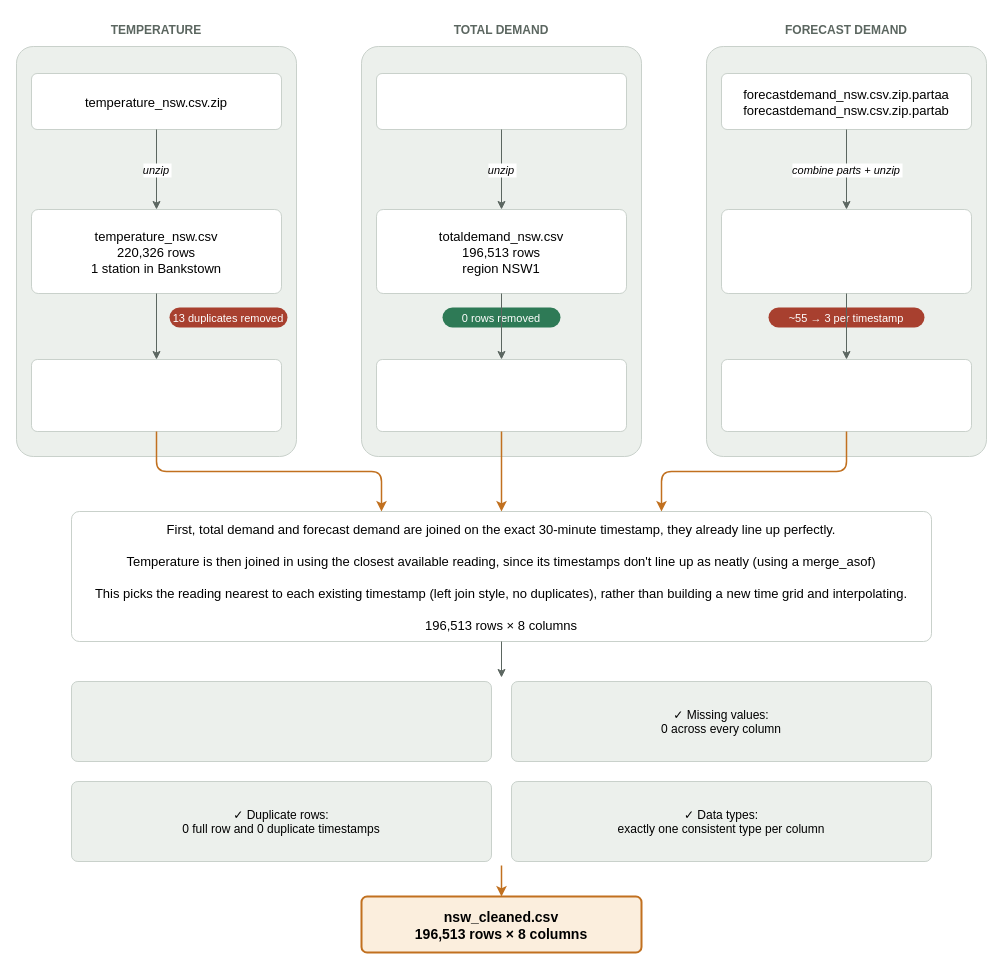
The diagram is 1003 pixels wide and 969 high, and some of its shapes have lost their labels. Here are the shapes that lost their labels. From the top down, the box of each, then its label:
(376, 72, 626, 130): totaldemand_nsw.csv.zip
(720, 208, 972, 294): forecastdemand_nsw.csv 10,906,019 rows (~740 MB) ~55 forecasts per timestamp
(30, 358, 282, 432): cleaned 220,313 rows
(376, 358, 626, 432): cleaned 196,513 rows
(720, 358, 972, 432): cleaned 196,513 rows × 3 cols closest · 12h prior · day prior
(70, 680, 492, 762): ✓ Coverage: 196,513 / 196,513 half hourly slots since 2010-01-01, 0 gaps
